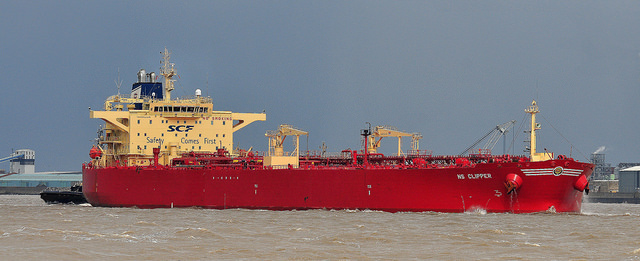tanker: (81, 47, 594, 213)
